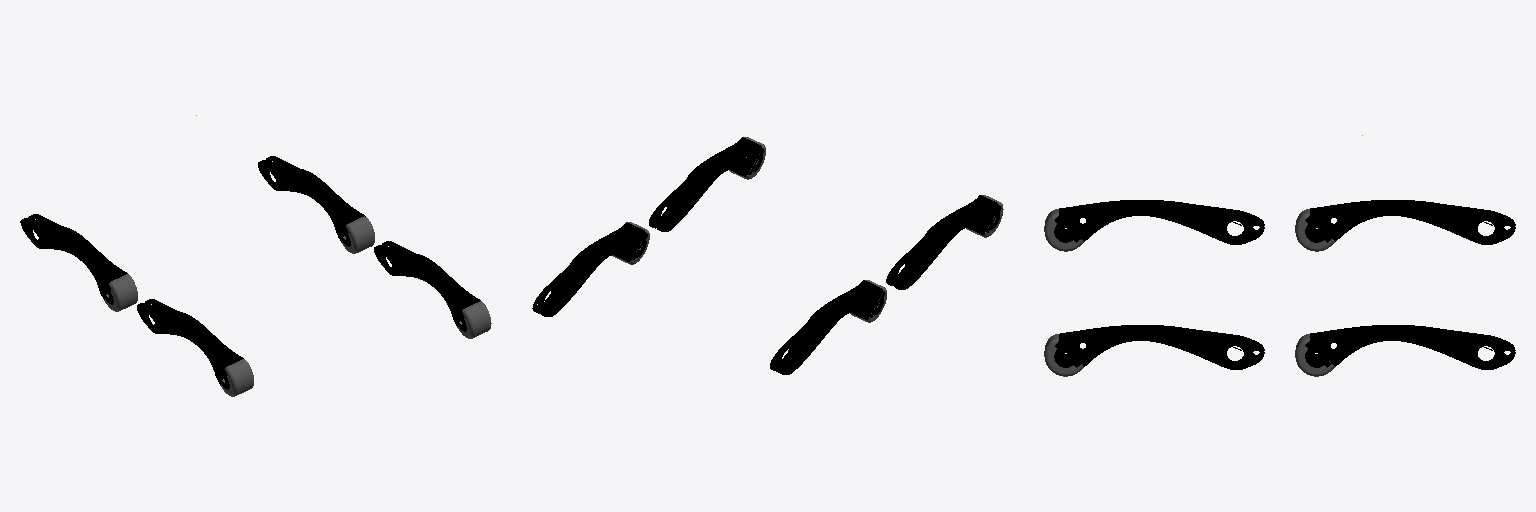
robot.urdf — lite3:
<?xml version="1.0" ?>
<robot name="lite3">
  <link name="base">
    <visual>
      <origin rpy="0 0 0" xyz="0 0 0"/>
      <geometry>
        <box size="0.001 0.001 0.001"/>
      </geometry>
    </visual>
  </link>
  <joint name="floating_base" type="fixed">
    <origin rpy="0 0 0" xyz="0 0 0"/>
    <parent link="base"/>
    <child link="trunk"/>
  </joint>
  <link name="trunk">
    <visual>
      <origin rpy="0 0 1.5708" xyz="-0.05 -0.5 0.08"/>
      <geometry>
        <mesh filename="../meshes/trunk.dae" scale="1 1 1"/>
      </geometry>
    </visual>
    <collision>
      <geometry>
        <box size="0.234 0.184 0.08"/>
      </geometry>
    </collision>
    <inertial>
      <origin xyz="0.004098 -0.000663 -0.002069"/>
      <mass value="4.130"/>
      <inertia ixx="0.016982120" ixy="2.1294E-05" ixz="6.0763E-05" iyy="0.030466501" iyz="1.7968E-05" izz="0.042609956"/>
    </inertial>
  </link>
  <joint name="imu_joint" type="fixed">
    <parent link="trunk"/>
    <child link="imu_link"/>
    <origin rpy="0 0 0" xyz="0 0 0"/>
  </joint>
  <link name="imu_link">
    <inertial>
      <mass value="0.001"/>
      <origin rpy="0 0 0" xyz="0 0 0"/>
      <inertia ixx="0.0001" ixy="0" ixz="0" iyy="0.0001" iyz="0" izz="0.0001"/>
    </inertial>
    <visual>
      <origin rpy="0 0 0" xyz="0 0 0"/>
      <geometry>
        <box size="0.001 0.001 0.001"/>
      </geometry>
    </visual>
    <collision>
      <origin rpy="0 0 0" xyz="0 0 0"/>
      <geometry>
        <box size=".001 .001 .001"/>
      </geometry>
    </collision>
  </link>
  <joint name="FR_hip_joint" type="revolute">
    <origin xyz="0.1745 -0.062 0"/>
    <parent link="trunk"/>
    <child link="FR_hip"/>
    <axis xyz="1 0 0"/>
    <limit effort="40" lower="-1.0471975512" upper="1.0471975512" velocity="30"/>
  </joint>
  <link name="FR_hip">
    <inertial>
      <origin xyz="-0.0047 0.0091 -0.0018"/>
      <mass value="0.428"/>
      <inertia ixx="0.00014538" ixy="-8.1551E-07" ixz="-1.2639E-05" iyy="0.00024024" iyz="-1.3441E-06" izz="0.00013038"/>
    </inertial>
    <visual>
      <origin rpy="0 0 1.5708" xyz="-0.231 -0.44 0.09"/>
      <geometry>
        <mesh filename="../meshes/FR_hip.dae" scale="1 1 1"/>
      </geometry>
    </visual>
    <collision>
      <origin rpy="1.57079632679 0 0" xyz="0 0 0"/>
      <geometry>
        <cylinder length="0.04" radius="0.046"/>
      </geometry>
    </collision>
  </link>
  <joint name="FR_hip_fixed" type="fixed">
    <origin rpy="0 0 0" xyz="0 -0.08 0"/>
    <parent link="FR_hip"/>
    <child link="FR_thigh_shoulder"/>
  </joint>
  <!-- this link is only for collision -->
  <link name="FR_thigh_shoulder">
    <collision>
      <origin rpy="1.57079632679 0 0" xyz="0 0 0"/>
      <geometry>
        <cylinder length="0.032" radius="0.041"/>
      </geometry>
    </collision>
  </link>
  <joint name="FR_thigh_joint" type="revolute">
    <origin xyz="0 -0.0985 0"/>
    <parent link="FR_hip"/>
    <child link="FR_thigh"/>
    <axis xyz="0 1 0"/>
    <limit effort="40" lower="-0.663225115758" upper="2.96705972839" velocity="30"/>
  </joint>
  <link name="FR_thigh">
    <inertial>
      <origin xyz="-0.00523 0.0216 -0.0273"/>
      <mass value="0.61"/>
      <inertia ixx="0.001" ixy="2.5E-06" ixz="-1.12E-04" iyy="0.00116" iyz="-3.75E-07" izz="2.68E-04"/>
    </inertial>
    <visual>
      <origin rpy="-3.5708 0 1.5708" xyz="0.27 -0.335 0.02"/>
      <geometry>
        <mesh filename="../meshes/R_thigh.dae" scale="1 1 1"/>
      </geometry>
    </visual>
    <collision>
      <origin xyz="0 0.01 -0.11"/>
      <geometry>
        <box size="0.035 0.02 0.20"/>
      </geometry>
    </collision>
  </link>
  <joint name="FR_calf_joint" type="revolute">
    <origin xyz="0 0 -0.20"/>
    <parent link="FR_thigh"/>
    <child link="FR_calf"/>
    <axis xyz="0 1 0"/>
    <limit effort="65" lower="-2.72271363311" upper="-0.837758040957" velocity="20"/>
  </joint>
  <link name="FR_calf">
    <inertial>
      <origin xyz="0.00585 -8.732E-07 -0.12"/>
      <mass value="0.115"/>
      <inertia ixx="6.68E-04" ixy="-1.24E-08" ixz="6.91E-06" iyy="6.86E-04" iyz="5.65E-09" izz="3.155E-05"/>
    </inertial>
    <visual>
      <origin rpy="-1.57079632679 0 0" xyz="0.005 0.01 -0.03"/>
      <geometry>
        <mesh filename="../meshes/calf.dae" scale="1 1 1"/>
      </geometry>
    </visual>
    <collision>
      <origin xyz="0 0.01 -0.11"/>
      <geometry>
        <box size="0.02 0.02 0.22"/>
      </geometry>
    </collision>
  </link>
  <joint name="FR_foot_fixed" type="fixed" dont_collapse="true">
    <origin xyz="0 0 -0.20"/>
    <parent link="FR_calf"/>
    <child link="FR_foot"/>
  </joint>
  <link name="FR_foot">
    <inertial>
      <mass value="0.06"/>
      <inertia ixx="1E-12" ixy="0" ixz="0" iyy="1E-12" iyz="0" izz="1E-12"/>
    </inertial>
    <collision>
      <geometry>
        <sphere radius="0.04"/>
      </geometry>
    </collision>
  </link>
  <joint name="FL_hip_joint" type="revolute">
    <origin xyz="0.1745 0.062 0"/>
    <parent link="trunk"/>
    <child link="FL_hip"/>
    <axis xyz="1 0 0"/>
    <limit effort="40" lower="-1.0471975512" upper="1.0471975512" velocity="30"/>
  </joint>
  <link name="FL_hip">
    <inertial>
      <origin xyz="-0.0047 -0.0091 -0.0018"/>
      <mass value="0.428"/>
      <inertia ixx="0.00014538" ixy="8.1579E-07" ixz="-1.264E-05" iyy="0.00024024" iyz="1.3443E-06" izz="0.00013038"/>
    </inertial>
    <visual>
      <origin rpy="0 0 1.5708" xyz="-0.231 -0.56 0.09"/>
      <geometry>
        <mesh filename="../meshes/FL_hip.dae" scale="1 1 1"/>
      </geometry>
    </visual>
    <collision>
      <origin rpy="1.57079632679 0 0" xyz="0 0 0"/>
      <geometry>
        <cylinder length="0.04" radius="0.046"/>
      </geometry>
    </collision>
  </link>
  <joint name="FL_hip_fixed" type="fixed">
    <origin rpy="0 0 0" xyz="0 0.08 0"/>
    <parent link="FL_hip"/>
    <child link="FL_thigh_shoulder"/>
  </joint>
  <!-- this link is only for collision -->
  <link name="FL_thigh_shoulder">
    <collision>
      <origin rpy="1.57079632679 0 0" xyz="0 0 0"/>
      <geometry>
        <cylinder length="0.032" radius="0.041"/>
      </geometry>
    </collision>
  </link>
  <joint name="FL_thigh_joint" type="revolute">
    <origin xyz="0 0.0985 0"/>
    <parent link="FL_hip"/>
    <child link="FL_thigh"/>
    <axis xyz="0 1 0"/>
    <limit effort="40" lower="-0.663225115758" upper="2.96705972839" velocity="30"/>
  </joint>
  <link name="FL_thigh">
    <inertial>
      <origin xyz="-0.00523 -0.0216 -0.0273"/>
      <mass value="0.61"/>
      <inertia ixx="0.001" ixy="-2.5E-06" ixz="-1.12E-04" iyy="0.00116" iyz="3.75E-07" izz="2.68E-04"/>
    </inertial>
    <visual>
      <origin rpy="-3.5708 0 1.5708" xyz="0.27 -0.67 0.02"/>
      <geometry>
        <mesh filename="../meshes/L_thigh.dae" scale="1 1 1"/>
      </geometry>
    </visual>
    <collision>
      <origin xyz="0 -0.01 -0.11"/>
      <geometry>
        <box size="0.035 0.02 0.20"/>
      </geometry>
    </collision>
  </link>
  <joint name="FL_calf_joint" type="revolute">
    <origin xyz="0 0 -0.20"/>
    <parent link="FL_thigh"/>
    <child link="FL_calf"/>
    <axis xyz="0 1 0"/>
    <limit effort="65" lower="-2.72271363311" upper="-0.837758040957" velocity="20"/>
  </joint>
  <link name="FL_calf">
    <inertial>
      <origin xyz="0.00585 -8.732E-07 -0.12"/>
      <mass value="0.115"/>
      <inertia ixx="6.68E-04" ixy="-1.24E-08" ixz="6.91E-06" iyy="6.86E-04" iyz="5.65E-09" izz="3.155E-05"/>
    </inertial>
    <visual>
      <origin rpy="-1.57079632679 0 0" xyz="0.005 -0.015 -0.03"/>
      <geometry>
        <mesh filename="../meshes/calf.dae" scale="1 1 1"/>
      </geometry>
    </visual>
    <collision>
      <origin xyz="0 -0.01 -0.11"/>
      <geometry>
        <box size="0.02 0.02 0.22"/>
      </geometry>
    </collision>
  </link>
  <joint name="FL_foot_fixed" type="fixed" dont_collapse="true">
    <origin xyz="0 0 -0.20"/>
    <parent link="FL_calf"/>
    <child link="FL_foot"/>
  </joint>
  <link name="FL_foot">
    <inertial>
      <mass value="0.06"/>
      <inertia ixx="1E-12" ixy="0" ixz="0" iyy="1E-12" iyz="0" izz="1E-12"/>
    </inertial>
    <collision>
      <geometry>
        <sphere radius="0.04"/>
      </geometry>
    </collision>
  </link>
  <joint name="RR_hip_joint" type="revolute">
    <origin xyz="-0.1745 -0.062 0"/>
    <parent link="trunk"/>
    <child link="RR_hip"/>
    <axis xyz="1 0 0"/>
    <limit effort="40" lower="-1.0471975512" upper="1.0471975512" velocity="30"/>
  </joint>
  <link name="RR_hip">
    <inertial>
      <origin xyz="0.0047 0.0091 -0.0018"/>
      <mass value="0.428"/>
      <inertia ixx="0.00014538" ixy="8.1545E-07" ixz="1.2639E-05" iyy="0.00024024" iyz="-1.344E-06" izz="0.00013038"/>
    </inertial>
    <visual>
      <origin rpy="0 0 1.5708" xyz="0.12 -0.44 0.09"/>
      <geometry>
        <mesh filename="../meshes/RR_hip.dae" scale="1 1 1"/>
      </geometry>
    </visual>
    <collision>
      <origin rpy="1.57079632679 0 0" xyz="0 0 0"/>
      <geometry>
        <cylinder length="0.04" radius="0.046"/>
      </geometry>
    </collision>
  </link>
  <joint name="RR_hip_fixed" type="fixed">
    <origin rpy="0 0 0" xyz="0 -0.08 0"/>
    <parent link="RR_hip"/>
    <child link="RR_thigh_shoulder"/>
  </joint>
  <!-- this link is only for collision -->
  <link name="RR_thigh_shoulder">
    <collision>
      <origin rpy="1.57079632679 0 0" xyz="0 0 0"/>
      <geometry>
        <cylinder length="0.032" radius="0.041"/>
      </geometry>
    </collision>
  </link>
  <joint name="RR_thigh_joint" type="revolute">
    <origin xyz="0 -0.0985 0"/>
    <parent link="RR_hip"/>
    <child link="RR_thigh"/>
    <axis xyz="0 1 0"/>
    <limit effort="40" lower="-0.663225115758" upper="2.96705972839" velocity="30"/>
  </joint>
  <link name="RR_thigh">
    <inertial>
      <origin xyz="-0.00523 0.0216 -0.0273"/>
      <mass value="0.61"/>
      <inertia ixx="0.001" ixy="2.5E-06" ixz="-1.12E-04" iyy="0.00116" iyz="-3.75E-07" izz="2.68E-04"/>
    </inertial>
    <visual>
      <origin rpy="-3.5708 0 1.5708" xyz="0.27 -0.335 0.02"/>
      <geometry>
        <mesh filename="../meshes/R_thigh.dae" scale="1 1 1"/>
      </geometry>
    </visual>
    <collision>
      <origin xyz="0 0.01 -0.11"/>
      <geometry>
        <box size="0.035 0.02 0.20"/>
      </geometry>
    </collision>
  </link>
  <joint name="RR_calf_joint" type="revolute">
    <origin xyz="0 0 -0.20"/>
    <parent link="RR_thigh"/>
    <child link="RR_calf"/>
    <axis xyz="0 1 0"/>
    <limit effort="65" lower="-2.72271363311" upper="-0.837758040957" velocity="20"/>
  </joint>
  <link name="RR_calf">
    <inertial>
      <origin xyz="0.00585 -8.732E-07 -0.12"/>
      <mass value="0.115"/>
      <inertia ixx="6.68E-04" ixy="-1.24E-08" ixz="6.91E-06" iyy="6.86E-04" iyz="5.65E-09" izz="3.155E-05"/>
    </inertial>
    <visual>
      <origin rpy="-1.57079632679 0 0" xyz="0.005 0.01 -0.03"/>
      <geometry>
        <mesh filename="../meshes/calf.dae" scale="1 1 1"/>
      </geometry>
    </visual>
    <collision>
      <origin xyz="0 0.01 -0.11"/>
      <geometry>
        <box size="0.02 0.02 0.22"/>
      </geometry>
    </collision>
  </link>
  <joint name="RR_foot_fixed" type="fixed" dont_collapse="true">
    <origin xyz="0 0 -0.20"/>
    <parent link="RR_calf"/>
    <child link="RR_foot"/>
  </joint>
  <link name="RR_foot">
    <inertial>
      <mass value="0.06"/>
      <inertia ixx="1E-12" ixy="0" ixz="0" iyy="1E-12" iyz="0" izz="1E-12"/>
    </inertial>
    <collision>
      <geometry>
        <sphere radius="0.04"/>
      </geometry>
    </collision>
  </link>
  <joint name="RL_hip_joint" type="revolute">
    <origin xyz="-0.1745 0.062 0"/>
    <parent link="trunk"/>
    <child link="RL_hip"/>
    <axis xyz="1 0 0"/>
    <limit effort="40" lower="-1.0471975512" upper="1.0471975512" velocity="30"/>
  </joint>
  <link name="RL_hip">
    <inertial>
      <origin xyz="0.0047 -0.0091 -0.0018"/>
      <mass value="0.428"/>
      <inertia ixx="0.00014538" ixy="-8.1585E-07" ixz="1.2639E-05" iyy="0.00024024" iyz="1.3444E-06" izz="0.00013038"/>
    </inertial>
    <visual>
      <origin rpy="0 0 1.5708" xyz="0.12 -0.56 0.09"/>
      <geometry>
        <mesh filename="../meshes/RL_hip.dae" scale="1 1 1"/>
      </geometry>
    </visual>
    <collision>
      <origin rpy="1.57079632679 0 0" xyz="0 0 0"/>
      <geometry>
        <cylinder length="0.04" radius="0.046"/>
      </geometry>
    </collision>
  </link>
  <joint name="RL_hip_fixed" type="fixed">
    <origin rpy="0 0 0" xyz="0 0.08 0"/>
    <parent link="RL_hip"/>
    <child link="RL_thigh_shoulder"/>
  </joint>
  <!-- this link is only for collision -->
  <link name="RL_thigh_shoulder">
    <collision>
      <origin rpy="1.57079632679 0 0" xyz="0 0 0"/>
      <geometry>
        <cylinder length="0.032" radius="0.041"/>
      </geometry>
    </collision>
  </link>
  <joint name="RL_thigh_joint" type="revolute">
    <origin xyz="0 0.0985 0"/>
    <parent link="RL_hip"/>
    <child link="RL_thigh"/>
    <axis xyz="0 1 0"/>
    <limit effort="40" lower="-0.663225115758" upper="2.96705972839" velocity="30"/>
  </joint>
  <link name="RL_thigh">
    <inertial>
      <origin xyz="-0.00523 -0.0216 -0.0273"/>
      <mass value="0.61"/>
      <inertia ixx="0.001" ixy="-2.5E-06" ixz="-1.12E-04" iyy="0.00116" iyz="3.75E-07" izz="2.68E-04"/>
    </inertial>
    <visual>
      <origin rpy="-3.5708 0 1.5708" xyz="0.27 -0.67 0.02"/>
      <geometry>
        <mesh filename="../meshes/L_thigh.dae" scale="1 1 1"/>
      </geometry>
    </visual>
    <collision>
      <origin xyz="0 -0.01 -0.11"/>
      <geometry>
        <box size="0.035 0.02 0.20"/>
      </geometry>
    </collision>
  </link>
  <joint name="RL_calf_joint" type="revolute">
    <origin xyz="0 0 -0.20"/>
    <parent link="RL_thigh"/>
    <child link="RL_calf"/>
    <axis xyz="0 1 0"/>
    <limit effort="65" lower="-2.72271363311" upper="-0.837758040957" velocity="20"/>
  </joint>
  <link name="RL_calf">
    <inertial>
      <origin xyz="0.00585 -8.732E-07 -0.12"/>
      <mass value="0.115"/>
      <inertia ixx="6.68E-04" ixy="-1.24E-08" ixz="6.91E-06" iyy="6.86E-04" iyz="5.65E-09" izz="3.155E-05"/>
    </inertial>
    <visual>
      <origin rpy="-1.57079632679 0 0" xyz="0.005 -0.015 -0.03"/>
      <geometry>
        <mesh filename="../meshes/calf.dae" scale="1 1 1"/>
      </geometry>
    </visual>
    <collision>
      <origin xyz="0 -0.01 -0.11"/>
      <geometry>
        <box size="0.02 0.02 0.22"/>
      </geometry>
    </collision>
  </link>
  <joint name="RL_foot_fixed" type="fixed" dont_collapse="true">
    <origin xyz="0 0 -0.20"/>
    <parent link="RL_calf"/>
    <child link="RL_foot"/>
  </joint>
  <link name="RL_foot">
    <inertial>
      <mass value="0.06"/>
      <inertia ixx="1E-12" ixy="0" ixz="0" iyy="1E-12" iyz="0" izz="1E-12"/>
    </inertial>
    <collision>
      <geometry>
        <sphere radius="0.04"/>
      </geometry>
    </collision>
  </link>

</robot>

--- Facts derived from the render (not from the file) ---
Views: 3 orthographic renders of the robot side by side, from view 1: azimuth 30°, elevation 25°; view 2: azimuth 150°, elevation 25°; view 3: azimuth 270°, elevation 25°.
Model lite3 with 23 links and 22 joints (12 revolute, 10 fixed), rooted at base, posed all joints at 0 but 4 set to mid-range because 0 is outside their limits (FR_calf_joint = -1.78, FL_calf_joint = -1.78, RR_calf_joint = -1.78, RL_calf_joint = -1.78).
Links seen in each view (by area): view 1: RL_calf, FR_calf, FL_calf, RR_calf; view 2: RR_calf, RL_calf, FL_calf, FR_calf; view 3: RL_calf, FL_calf, RR_calf, FR_calf.
Link boxes in pixels (left/top/right/bottom): RL_calf: left=20, top=214, right=137, bottom=311; FR_calf: left=374, top=241, right=491, bottom=338; FL_calf: left=258, top=156, right=374, bottom=253; RR_calf: left=137, top=299, right=253, bottom=396; RR_calf: left=886, top=195, right=1003, bottom=289; RL_calf: left=770, top=280, right=886, bottom=374; FL_calf: left=532, top=222, right=649, bottom=316; FR_calf: left=649, top=137, right=765, bottom=231; RL_calf: left=1295, top=200, right=1515, bottom=251; FL_calf: left=1295, top=325, right=1515, bottom=376; RR_calf: left=1044, top=200, right=1264, bottom=251; FR_calf: left=1044, top=325, right=1264, bottom=376.
Size in the robot's own frame: 0.389 by 0.5556 by 0.2163 metres.
Meshes: 8 distinct files referenced, 4 mesh visuals loaded (1 Collada DAE); not drawn: 9 (reference not matched to a file when rendering).